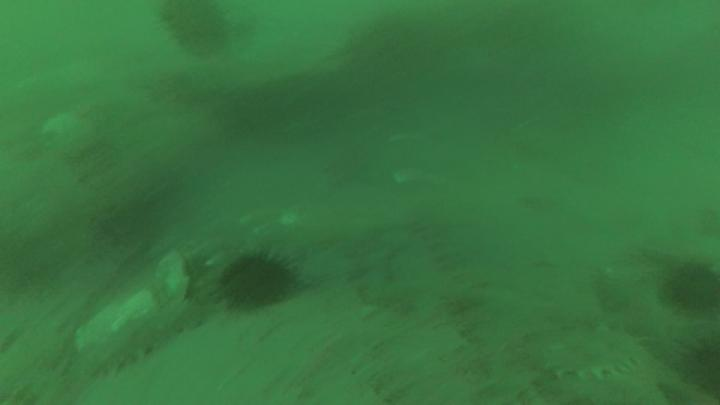echinus: (162, 1, 234, 57), (221, 259, 295, 311), (667, 267, 720, 313), (682, 343, 720, 403)
holothurian: (88, 298, 203, 374), (541, 331, 645, 380)
